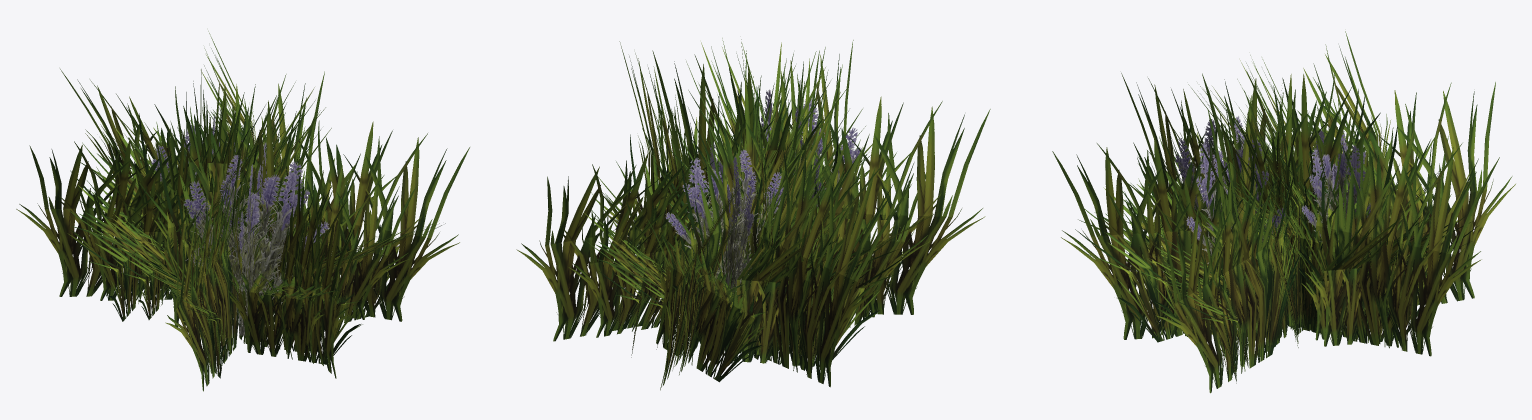
File: bush_two.glb
The picture shows the model from 3 angles, left to right: view 1: azimuth 30°, elevation 25°; view 2: azimuth 150°, elevation 25°; view 3: azimuth 270°, elevation 25°; orthographic projection. The views are drawn at different scales.
Visible parts, largest first — view 1: grass--bush-02.002, grass--bush-02.001, grass--bush-02.003, grass--bush-02.005, lavender-flower-01.002, grass--bush-02.004, grass--bush-02.006; view 2: grass--bush-02.003, grass--bush-02.002, grass--bush-02.001, grass--bush-02.006, lavender-flower-01.001, grass--bush-02.005, grass--bush-02.004, lavender-flower-01.002; view 3: grass--bush-02.003, grass--bush-02.001, grass--bush-02.002, grass--bush-02.006, grass--bush-02.005, grass--bush-02.004, lavender-flower-01.002, lavender-flower-01.001.
Boxes of the visible parts, x1,y1,x2,y2 form: grass--bush-02.002: [16, 71, 469, 343]; grass--bush-02.001: [60, 69, 366, 378]; grass--bush-02.003: [125, 31, 291, 391]; grass--bush-02.005: [67, 126, 416, 336]; lavender-flower-01.002: [183, 142, 328, 335]; grass--bush-02.004: [100, 124, 331, 363]; grass--bush-02.006: [152, 109, 257, 373]; grass--bush-02.003: [516, 50, 990, 363]; grass--bush-02.002: [615, 38, 911, 387]; grass--bush-02.001: [647, 39, 883, 390]; grass--bush-02.006: [568, 122, 929, 350]; lavender-flower-01.001: [665, 142, 783, 293]; grass--bush-02.005: [649, 111, 873, 370]; grass--bush-02.004: [669, 107, 825, 374]; lavender-flower-01.002: [707, 89, 861, 246]; grass--bush-02.003: [1121, 55, 1499, 356]; grass--bush-02.001: [1052, 71, 1515, 342]; grass--bush-02.002: [1149, 31, 1393, 393]; grass--bush-02.006: [1159, 114, 1451, 347]; grass--bush-02.005: [1185, 97, 1348, 372]; grass--bush-02.004: [1106, 127, 1457, 336]; lavender-flower-01.002: [1175, 116, 1285, 280]; lavender-flower-01.001: [1301, 130, 1370, 241].
Bounding box in the file's own units: 2.42 × 1.6 × 2.61.
2 materials, 2 textured.
